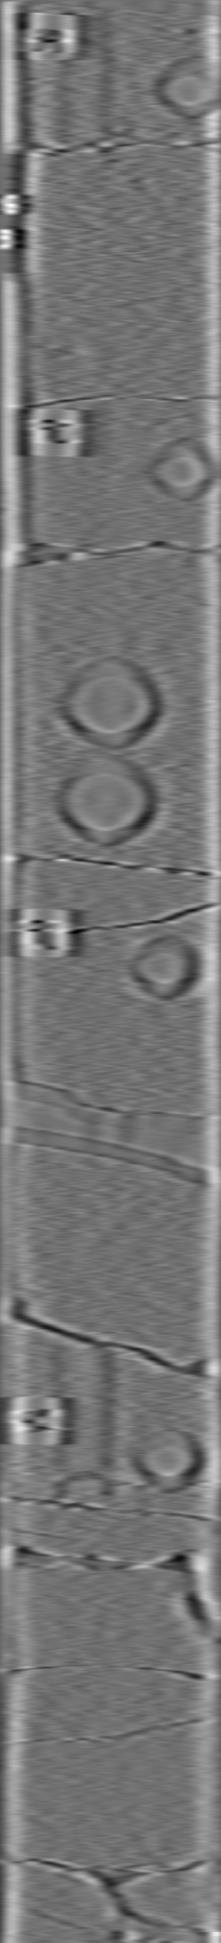hplug: (142, 430, 221, 506), (125, 932, 209, 1004), (143, 48, 221, 121), (132, 1423, 207, 1496)
scal: (60, 652, 168, 753), (55, 753, 161, 850)
vplug: (38, 1328, 120, 1511), (51, 1, 114, 154)
